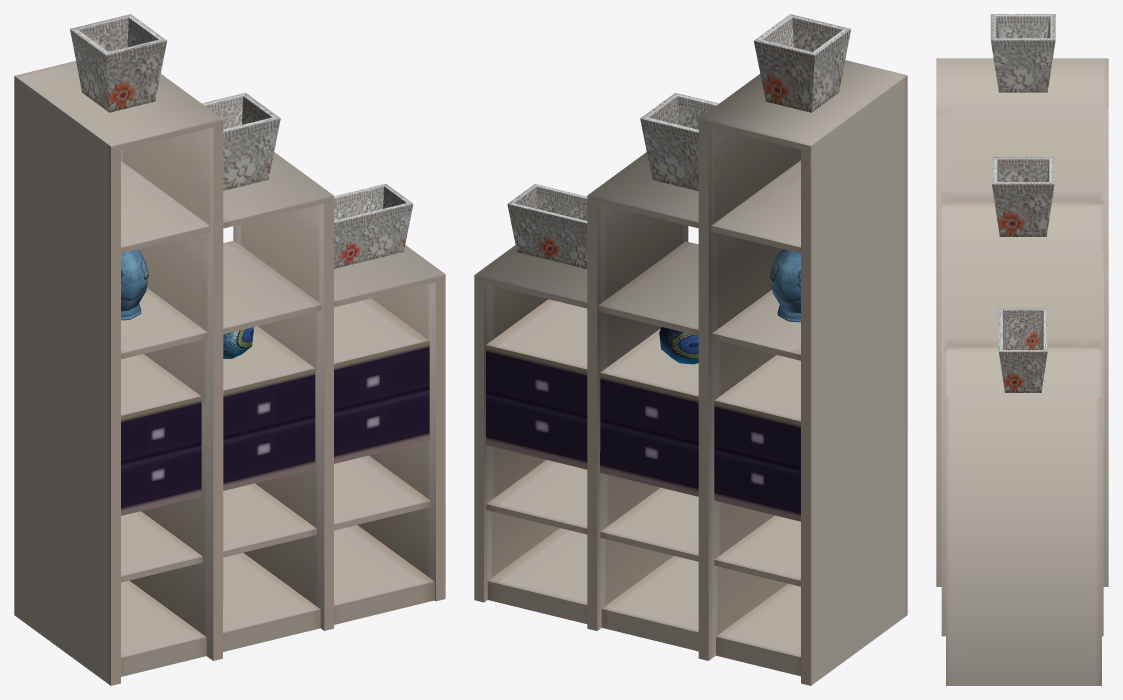
File: furni_02000104_03.FBX
3 views of the same model, side by side, from view 1: azimuth 30°, elevation 25°; view 2: azimuth 150°, elevation 25°; view 3: azimuth 270°, elevation 25° (orthographic). The views are drawn at different scales.
Parts seen in each view (by area): view 1: furni_02000104_03; view 2: furni_02000104_03; view 3: furni_02000104_03.
Part boxes in pixels (x1,y1,x2,y2): furni_02000104_03: (14, 14, 445, 685); furni_02000104_03: (474, 14, 907, 685); furni_02000104_03: (936, 14, 1108, 685).
Size of the model in its own units: 142 by 239 by 69.73.
Materials: 1 (1 with a texture image).
